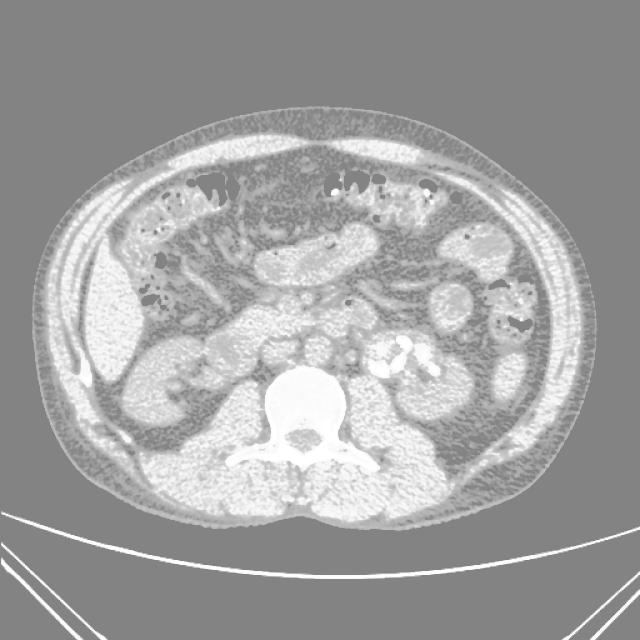STONE: (77, 127, 541, 379)
